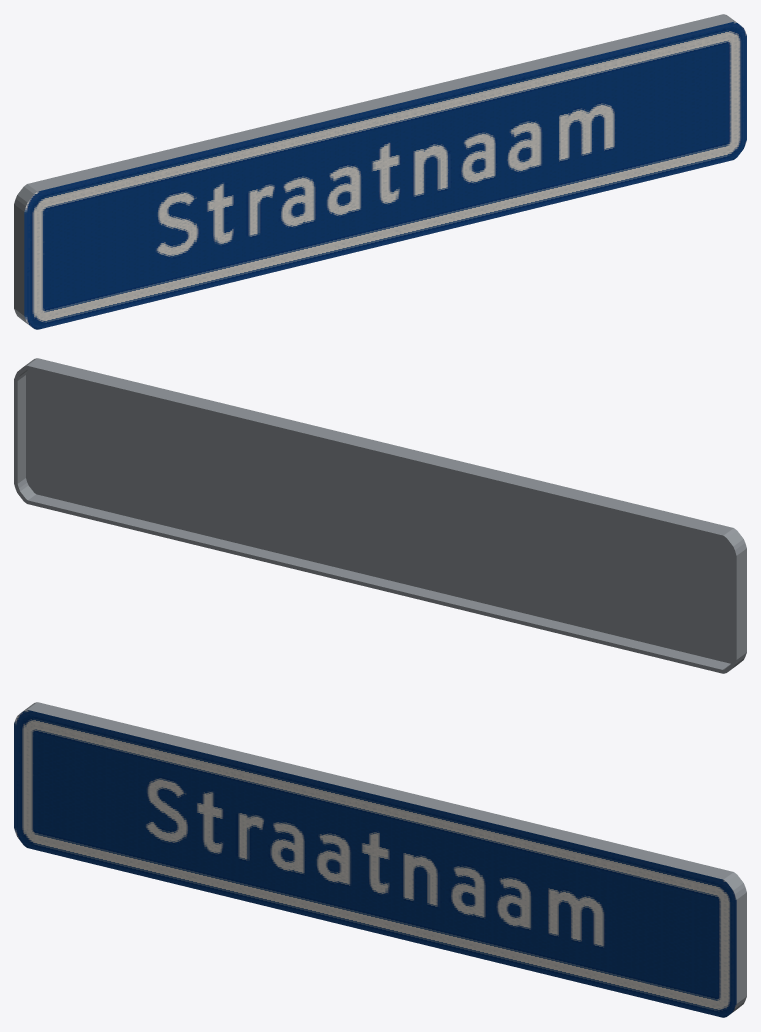
3 views of the same model, one above another, from view 1: azimuth 30°, elevation 25°; view 2: azimuth 150°, elevation 25°; view 3: azimuth 330°, elevation 25° (orthographic).
Visible parts, largest first — view 1: cat_b6b77b95598b3980; view 2: cat_b6b77b95598b3980; view 3: cat_b6b77b95598b3980.
Boxes of the visible parts, bbox=[...] form: cat_b6b77b95598b3980: bbox=[14, 14, 746, 329]; cat_b6b77b95598b3980: bbox=[14, 358, 746, 673]; cat_b6b77b95598b3980: bbox=[14, 702, 746, 1017].
Size of the model in its own units: 0.6 by 0.015 by 0.1097.
2 materials, 1 textured.
